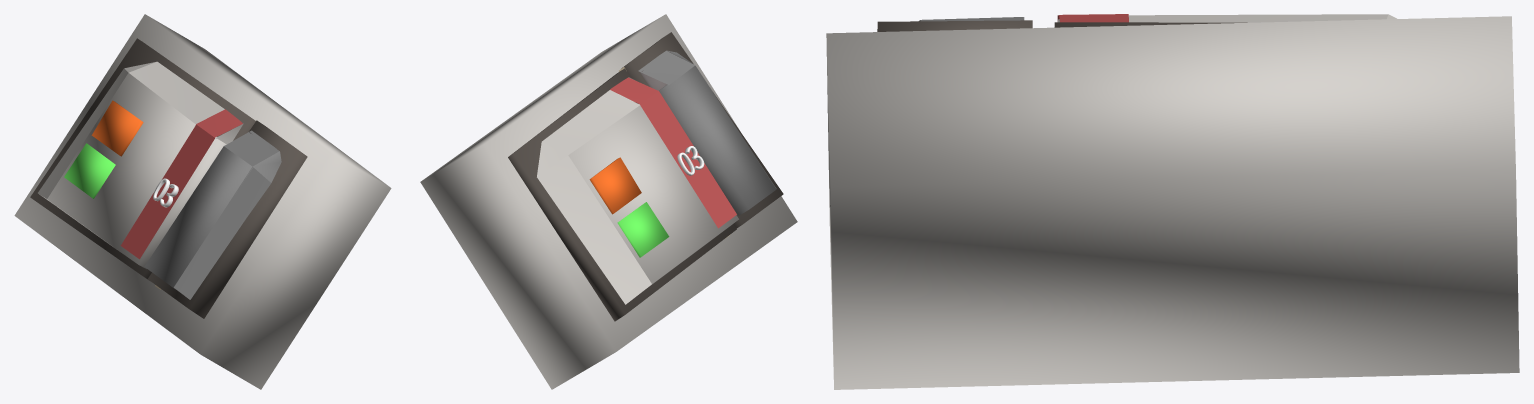
Rendered from Keycard Padlock L3.fbx.
3 views of the same model, side by side, from view 1: azimuth 30°, elevation 25°; view 2: azimuth 150°, elevation 25°; view 3: azimuth 270°, elevation 25° (orthographic). The views are drawn at different scales.
Parts seen in each view (by area): view 1: 7aa7ec8d-433c-4bf8-a1af-c6ca9dcffd31; view 2: 7aa7ec8d-433c-4bf8-a1af-c6ca9dcffd31; view 3: 7aa7ec8d-433c-4bf8-a1af-c6ca9dcffd31.
Boxes of the visible parts, x1,y1,x2,y2 form: 7aa7ec8d-433c-4bf8-a1af-c6ca9dcffd31: [14, 14, 391, 389]; 7aa7ec8d-433c-4bf8-a1af-c6ca9dcffd31: [420, 14, 797, 389]; 7aa7ec8d-433c-4bf8-a1af-c6ca9dcffd31: [826, 14, 1519, 389].
Size of the model in its own units: 2356 by 2620 by 3808.
